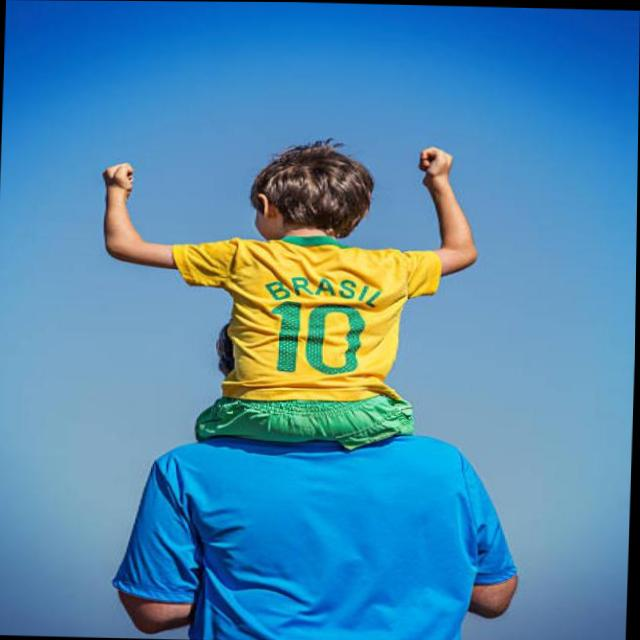no helmet: (245, 143, 384, 235)
